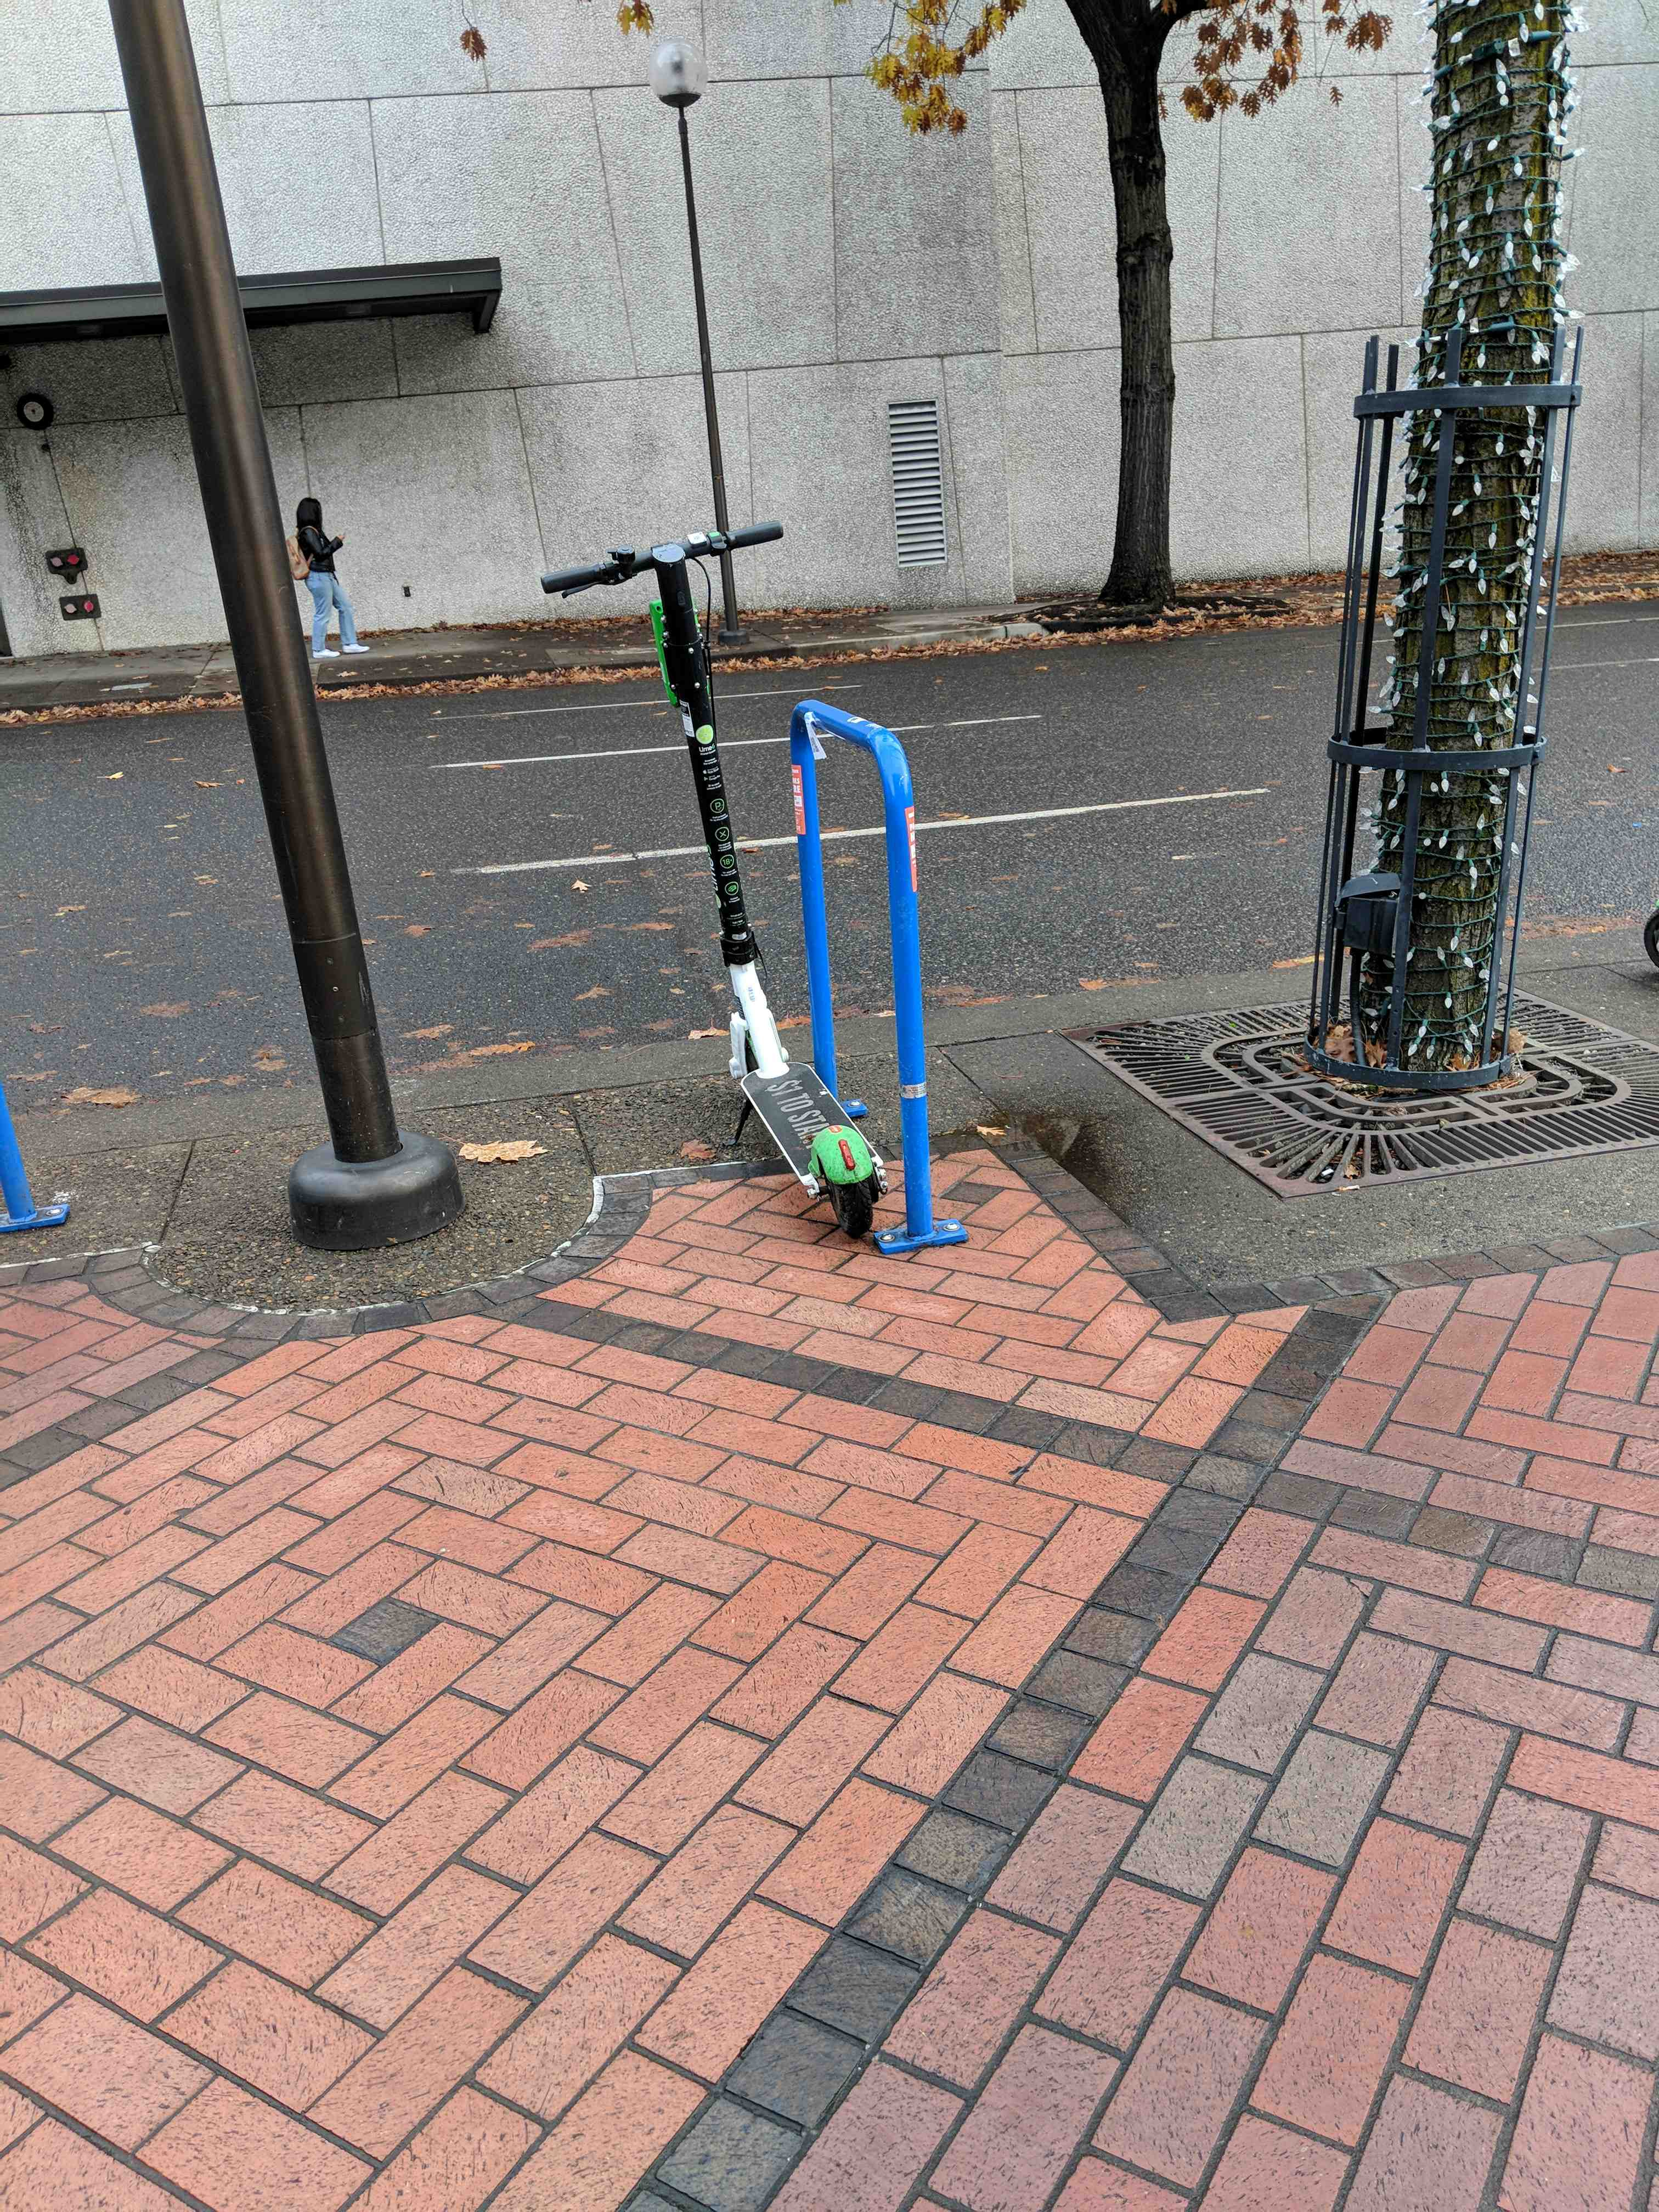scooter: (518, 512, 918, 1270)
